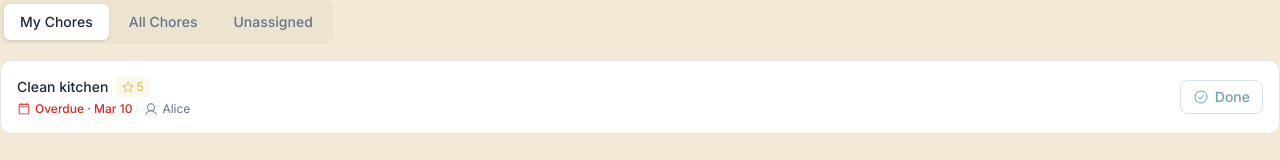
ChoreBoard › shows unassigned chores when Unassigned tab is clicked
What coordinates should you click on to do the following:
click the button "Unassigned"
I would click on:
 (273, 22)
Its box is top-left (218, 4), bottom-right (329, 40).
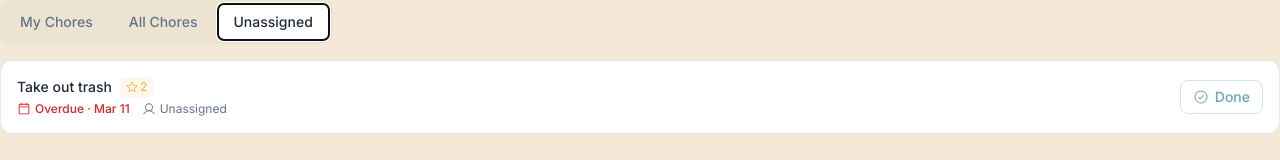
Result: the heading "Take out trash" is shown at top-left (17, 77), bottom-right (112, 97)
Result: the heading "Clean kitchen" is gone
